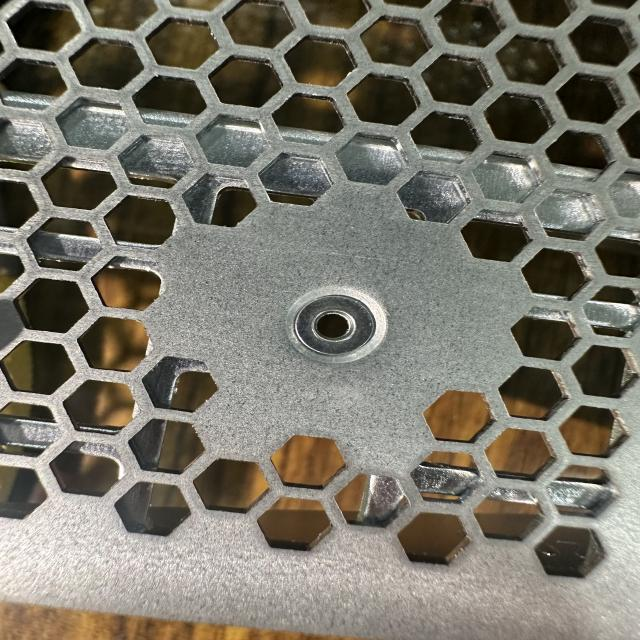Missing screw: (274, 284, 406, 370)
